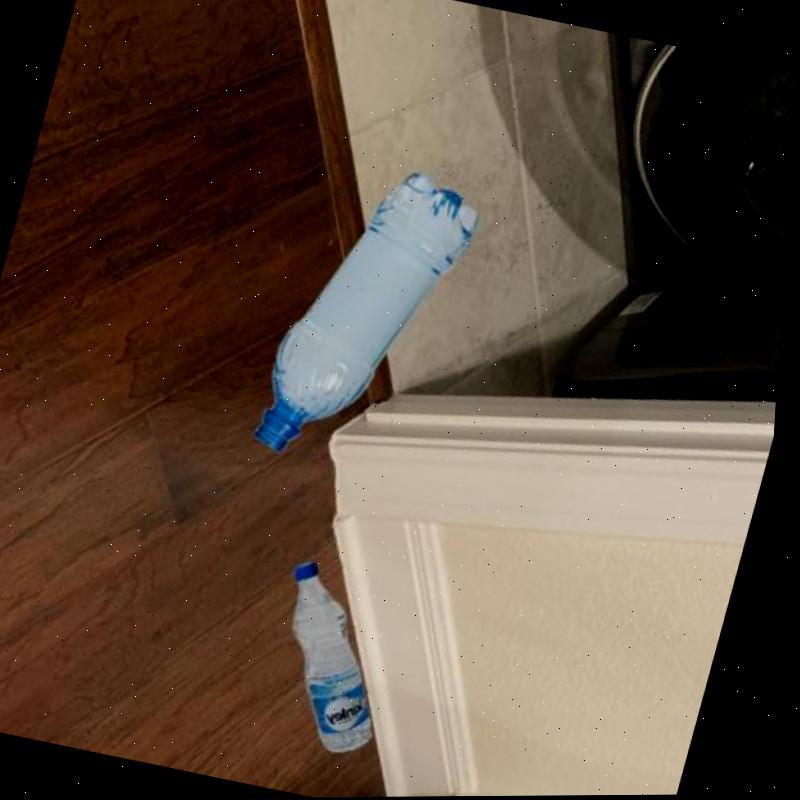botella: (256, 155, 495, 482), (256, 555, 425, 760)
